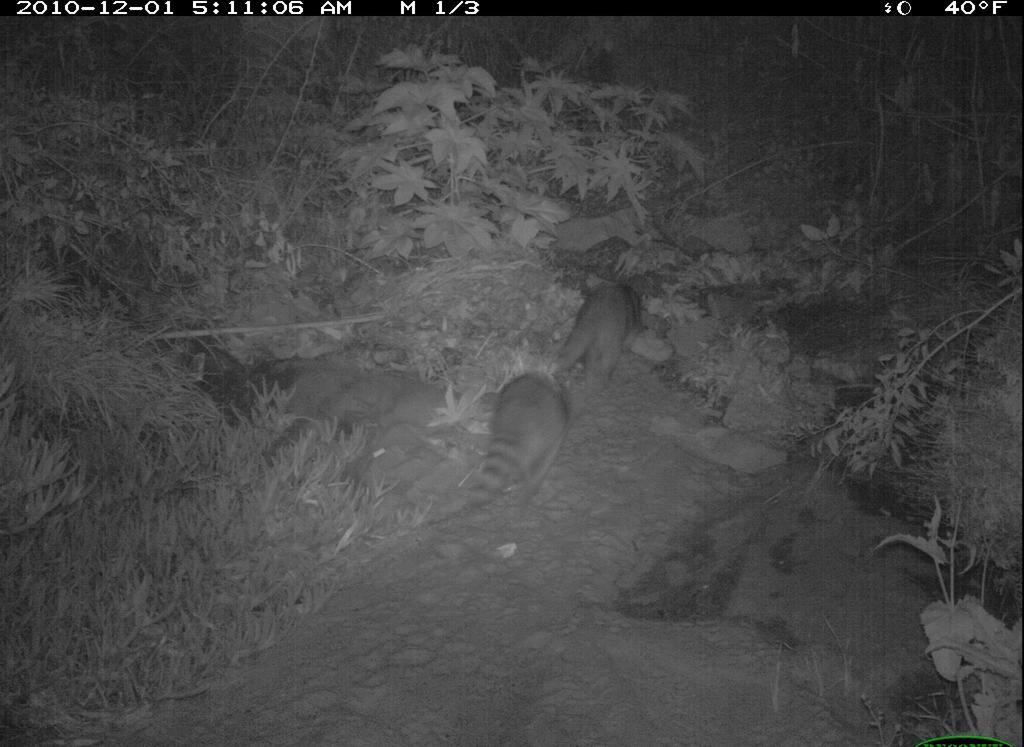raccoon: (463, 373, 579, 519), (556, 260, 661, 397)
